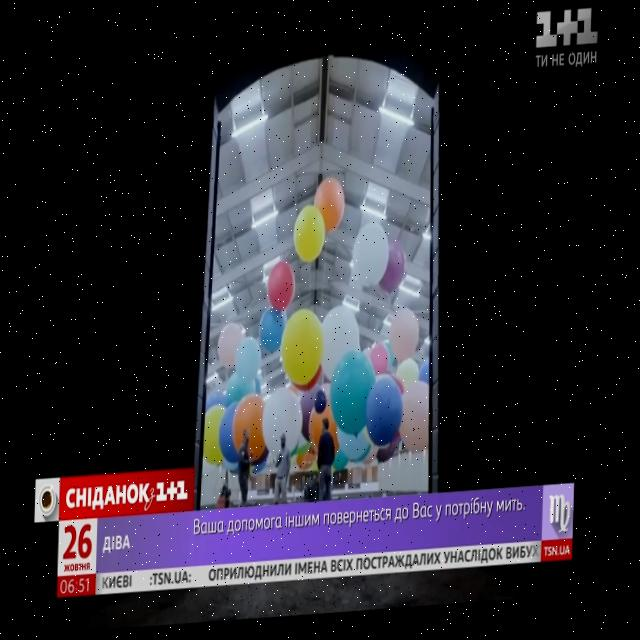balloon: (332, 361, 377, 441), (324, 309, 361, 387), (263, 397, 306, 458), (356, 228, 392, 296), (369, 385, 404, 451), (235, 400, 268, 468), (295, 210, 331, 268), (405, 392, 436, 458), (310, 402, 342, 463), (394, 315, 424, 374), (315, 183, 347, 237), (223, 405, 250, 466), (261, 311, 290, 358), (206, 406, 227, 467), (221, 326, 250, 370), (302, 387, 322, 446), (384, 247, 407, 298), (271, 266, 296, 311), (239, 343, 266, 384), (341, 439, 371, 468), (398, 368, 426, 394), (375, 349, 391, 377), (318, 395, 330, 417)
